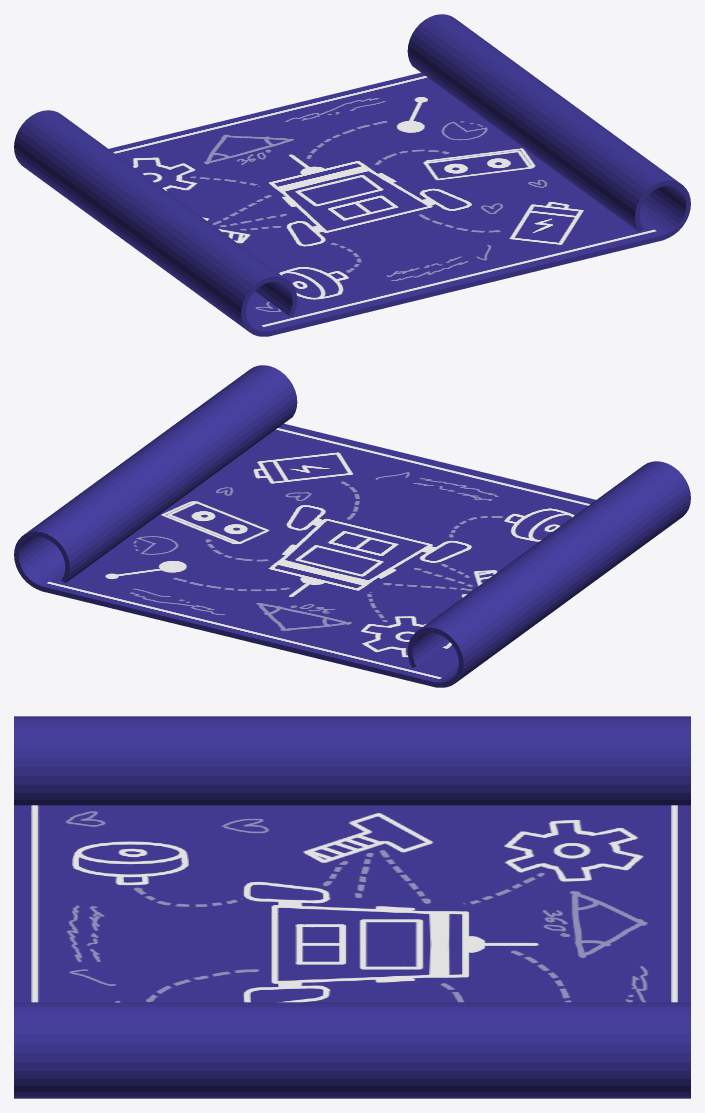
File: PlanosRobot.fbx
3 renders of one model, top to bottom at view 1: azimuth 30°, elevation 25°; view 2: azimuth 150°, elevation 25°; view 3: azimuth 270°, elevation 25°, orthographic. The views are drawn at different scales.
Visible parts, largest first — view 1: Plano; view 2: Plano; view 3: Plano.
Part boxes in pixels (left/top/right/bottom): Plano: left=14, top=14, right=690, bottom=336; Plano: left=14, top=365, right=690, bottom=687; Plano: left=14, top=716, right=690, bottom=1098.
Bounding box in the file's own units: 228 × 28.69 × 200.
Materials: 1 (1 with a texture image).
